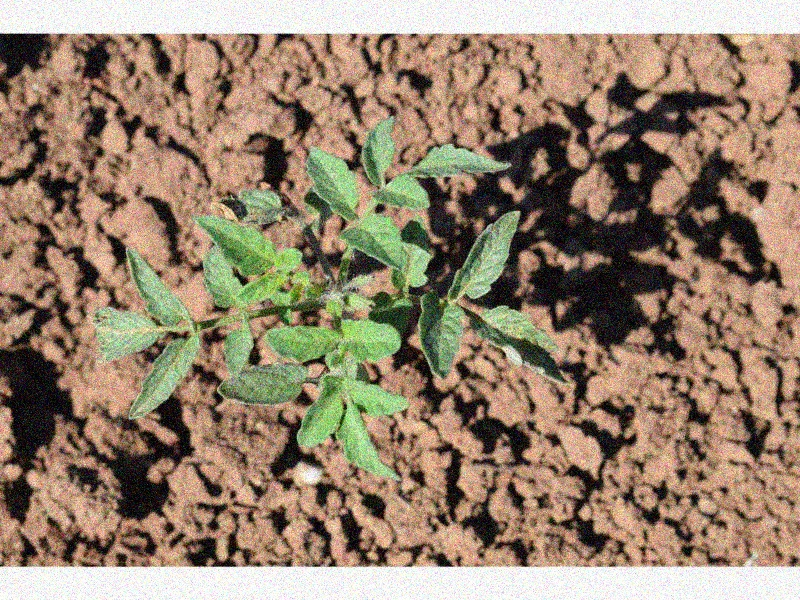tomato: (96, 117, 568, 482)
